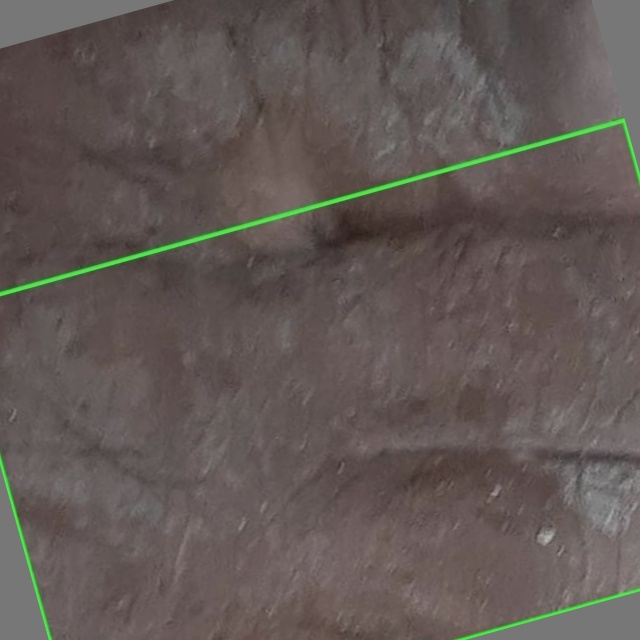Eczema: (0, 120, 639, 639)
